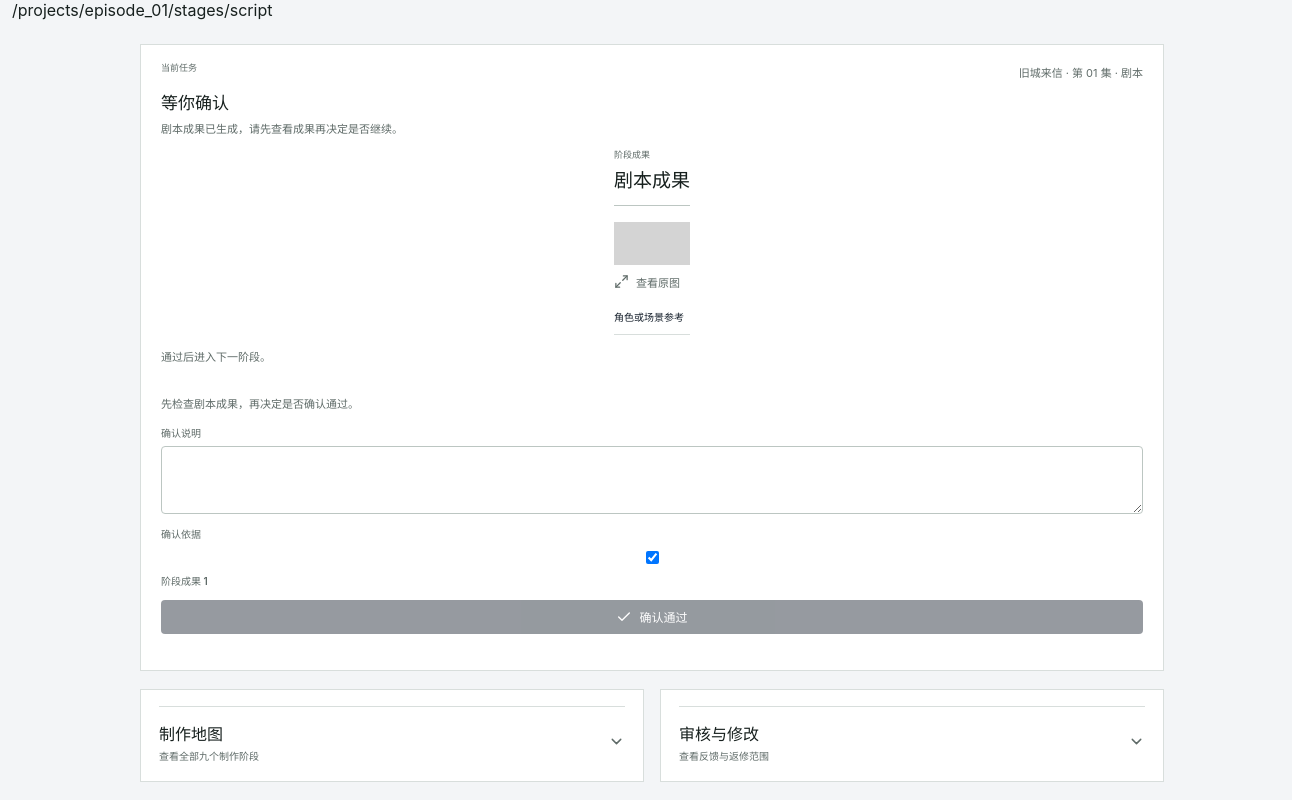
it: project review workspace › keeps workspace identity and blocked reasons creator-safe
Click the button "制作地图 查看全部九个制作阶段": [191, 734] box [159,706,625,765]
(page scrolled)
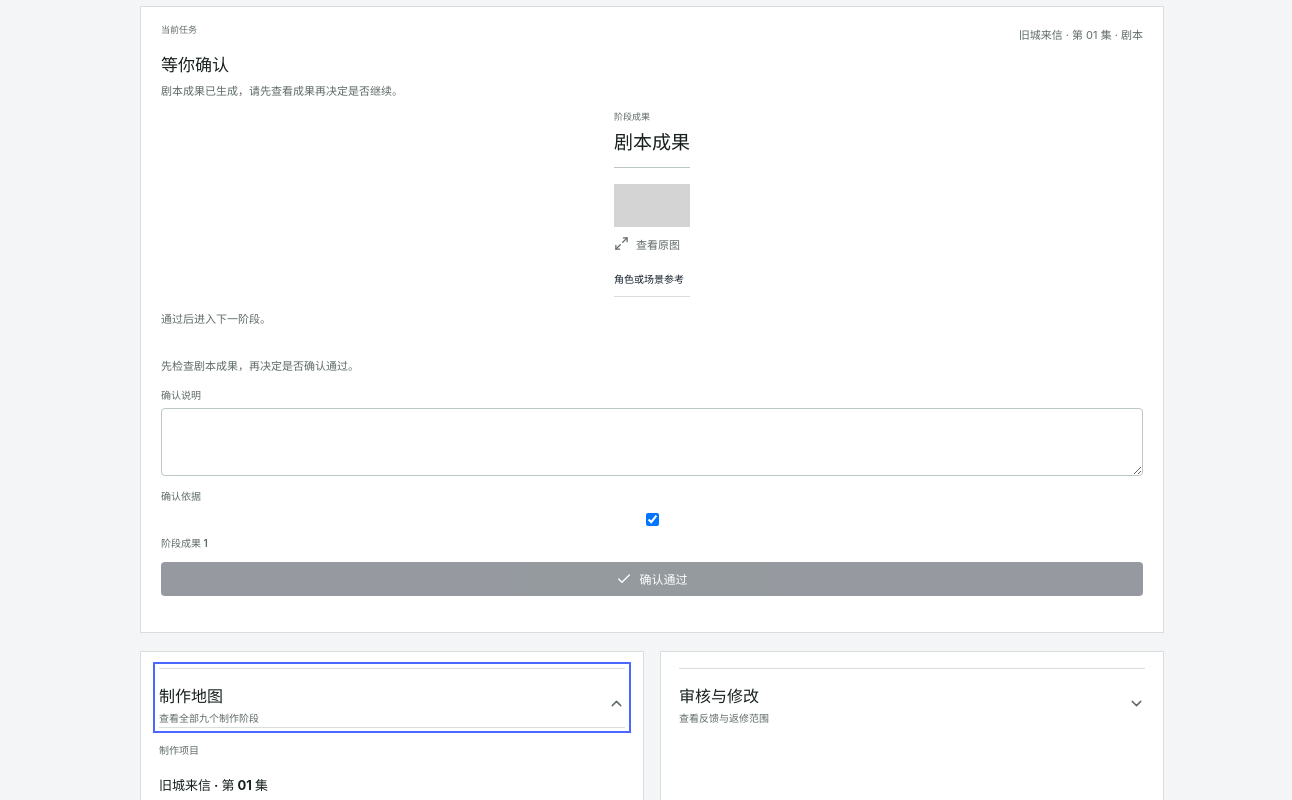
Click the button "审核与修改 查看反馈与返修范围": [719, 696] box [679,668,1145,727]
(page scrolled)
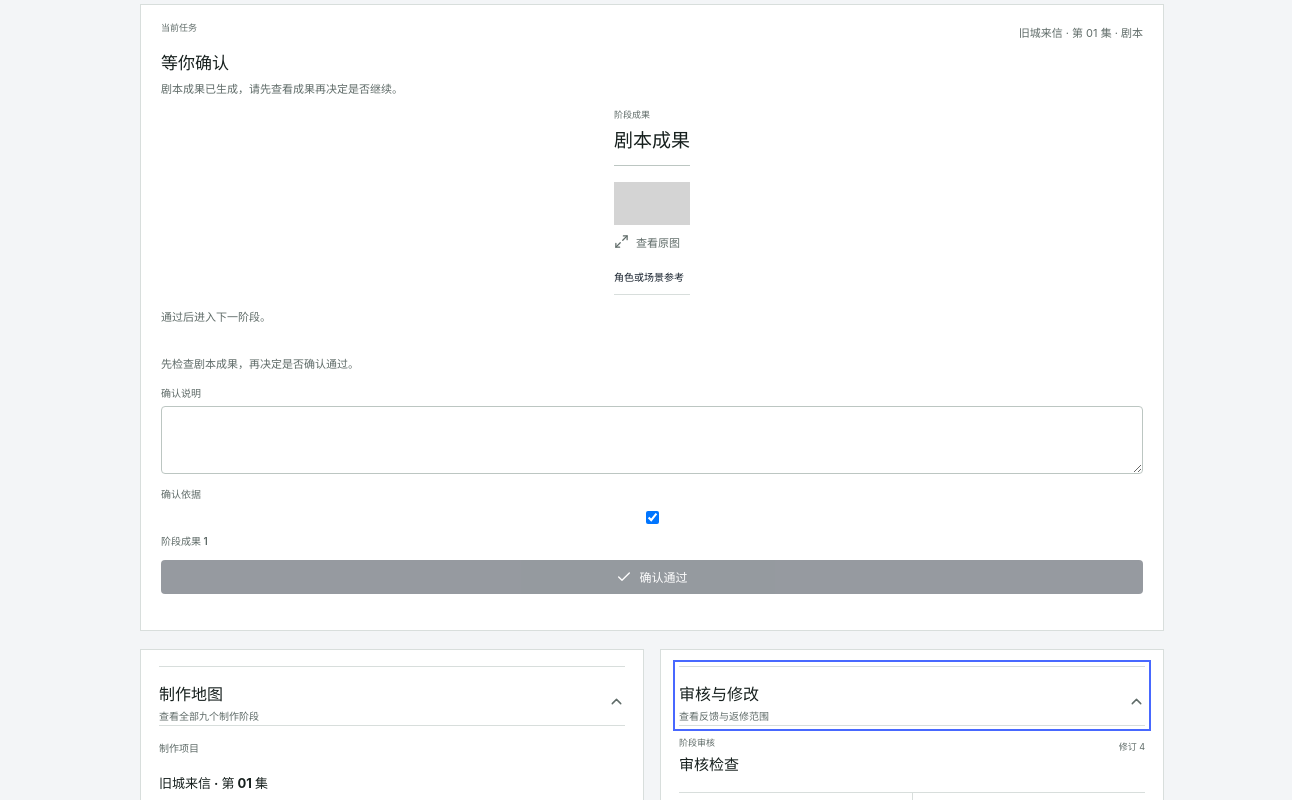
Check: the text "阶段审核" is shown, box [679,739,715,749]
